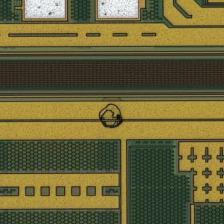COATING BAD: (96, 102, 128, 134)
